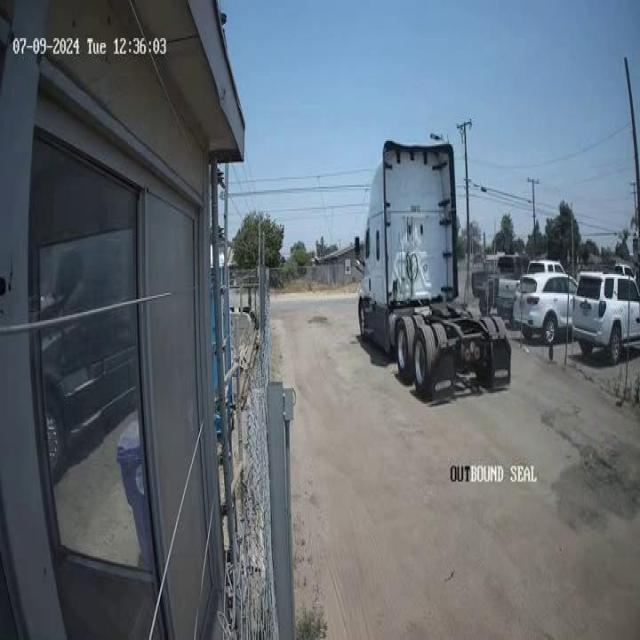TRUCK_OUT: (356, 138, 512, 401)
